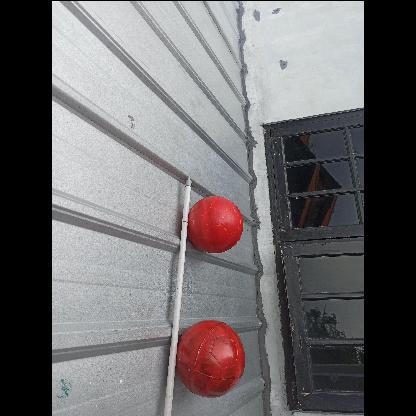red_ball: (175, 320, 249, 394), (188, 193, 245, 250)
